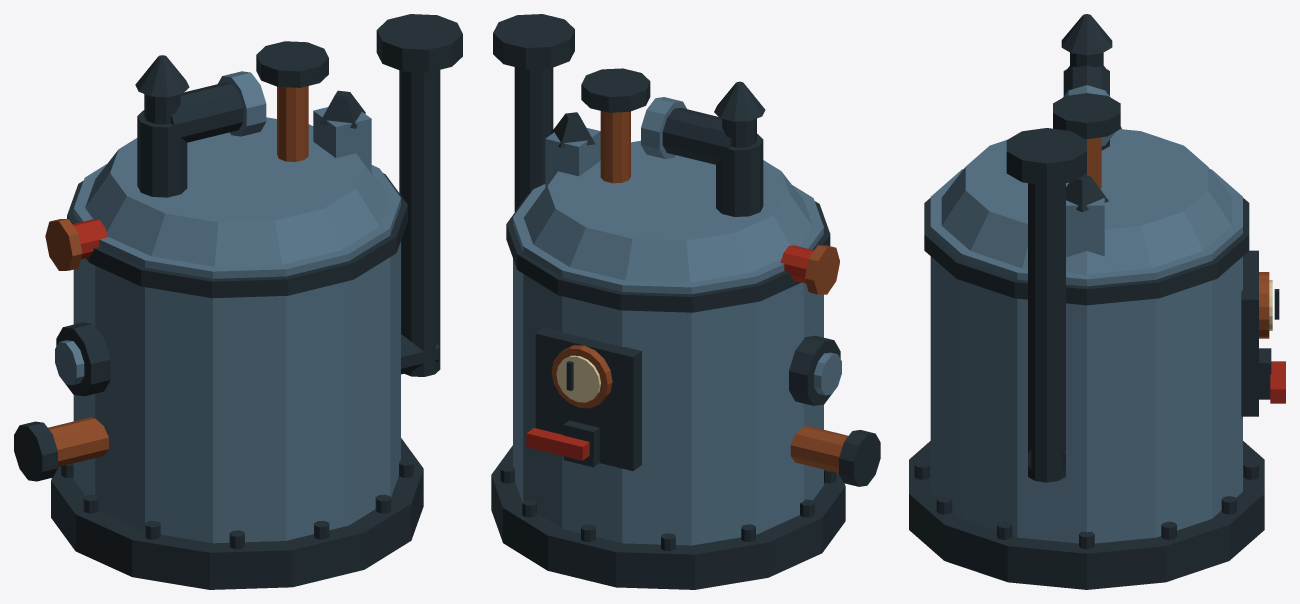
File: boiler_lowpoly.obj
3 views of the same model, side by side, from view 1: azimuth 30°, elevation 25°; view 2: azimuth 150°, elevation 25°; view 3: azimuth 270°, elevation 25° (orthographic). The views are drawn at different scales.
Parts seen in each view (by area): view 1: Body, TopDome, BaseRing, Exhaust, TopRim, TopPipe, ExhaustCap, PressureCap, PressureStem, SidePort, TopBox, SideOutletFlange (+10 smaller); view 2: Body, TopDome, BaseRing, GaugePlate, TopRim, TopPipe, Exhaust, ExhaustCap, PressureCap, PressureStem, SidePort, TopBox (+14 smaller); view 3: Body, TopDome, BaseRing, Exhaust, TopRim, ExhaustCap, GaugePlate, PressureCap, TopBox, BaseBolts, VentCap, TopPipe (+5 smaller).
Boxes of the visible parts, <box> form: Body: <box>73,164,400,543</box>; TopDome: <box>85,117,389,266</box>; BaseRing: <box>51,438,423,589</box>; Exhaust: <box>399,70,440,376</box>; TopRim: <box>67,173,407,298</box>; TopPipe: <box>137,82,243,197</box>; ExhaustCap: <box>376,14,462,72</box>; PressureCap: <box>256,41,328,87</box>; PressureStem: <box>277,86,308,161</box>; SidePort: <box>56,322,110,396</box>; TopBox: <box>313,107,371,173</box>; SideOutletFlange: <box>14,421,57,481</box>; Body: <box>513,184,823,545</box>; TopDome: <box>523,140,812,282</box>; BaseRing: <box>491,445,845,589</box>; GaugePlate: <box>535,327,641,470</box>; TopRim: <box>506,194,830,312</box>; TopPipe: <box>662,107,763,216</box>; Exhaust: <box>514,67,553,211</box>; ExhaustCap: <box>493,14,574,69</box>; PressureCap: <box>581,68,650,112</box>; PressureStem: <box>600,111,630,183</box>; SidePort: <box>789,335,840,405</box>; TopBox: <box>545,127,600,187</box>; Body: <box>930,169,1242,543</box>; TopDome: <box>941,129,1231,274</box>; BaseRing: <box>909,441,1264,589</box>; Exhaust: <box>1028,183,1065,482</box>; TopRim: <box>924,198,1249,305</box>; ExhaustCap: <box>1006,128,1086,185</box>; GaugePlate: <box>1241,250,1258,416</box>; PressureCap: <box>1053,93,1120,139</box>; TopBox: <box>1066,188,1104,257</box>; BaseBolts: <box>914,461,1258,549</box>; VentCap: <box>1061,14,1112,55</box>; TopPipe: <box>1063,65,1109,150</box>.
Bounding box in the file's own units: 2.07 × 2.29 × 1.69.
